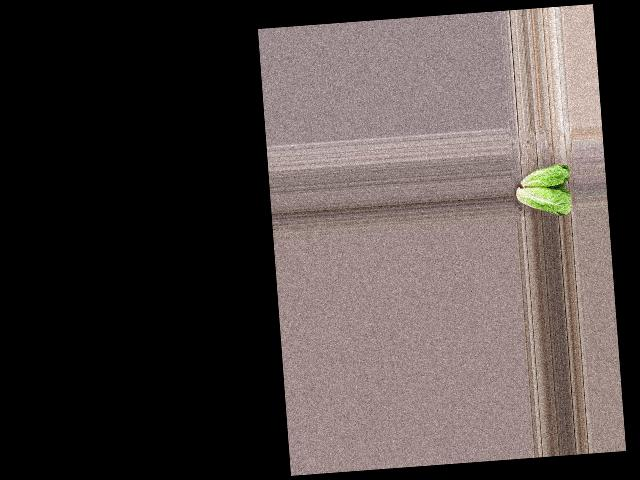lettuce: (512, 183, 574, 220)
